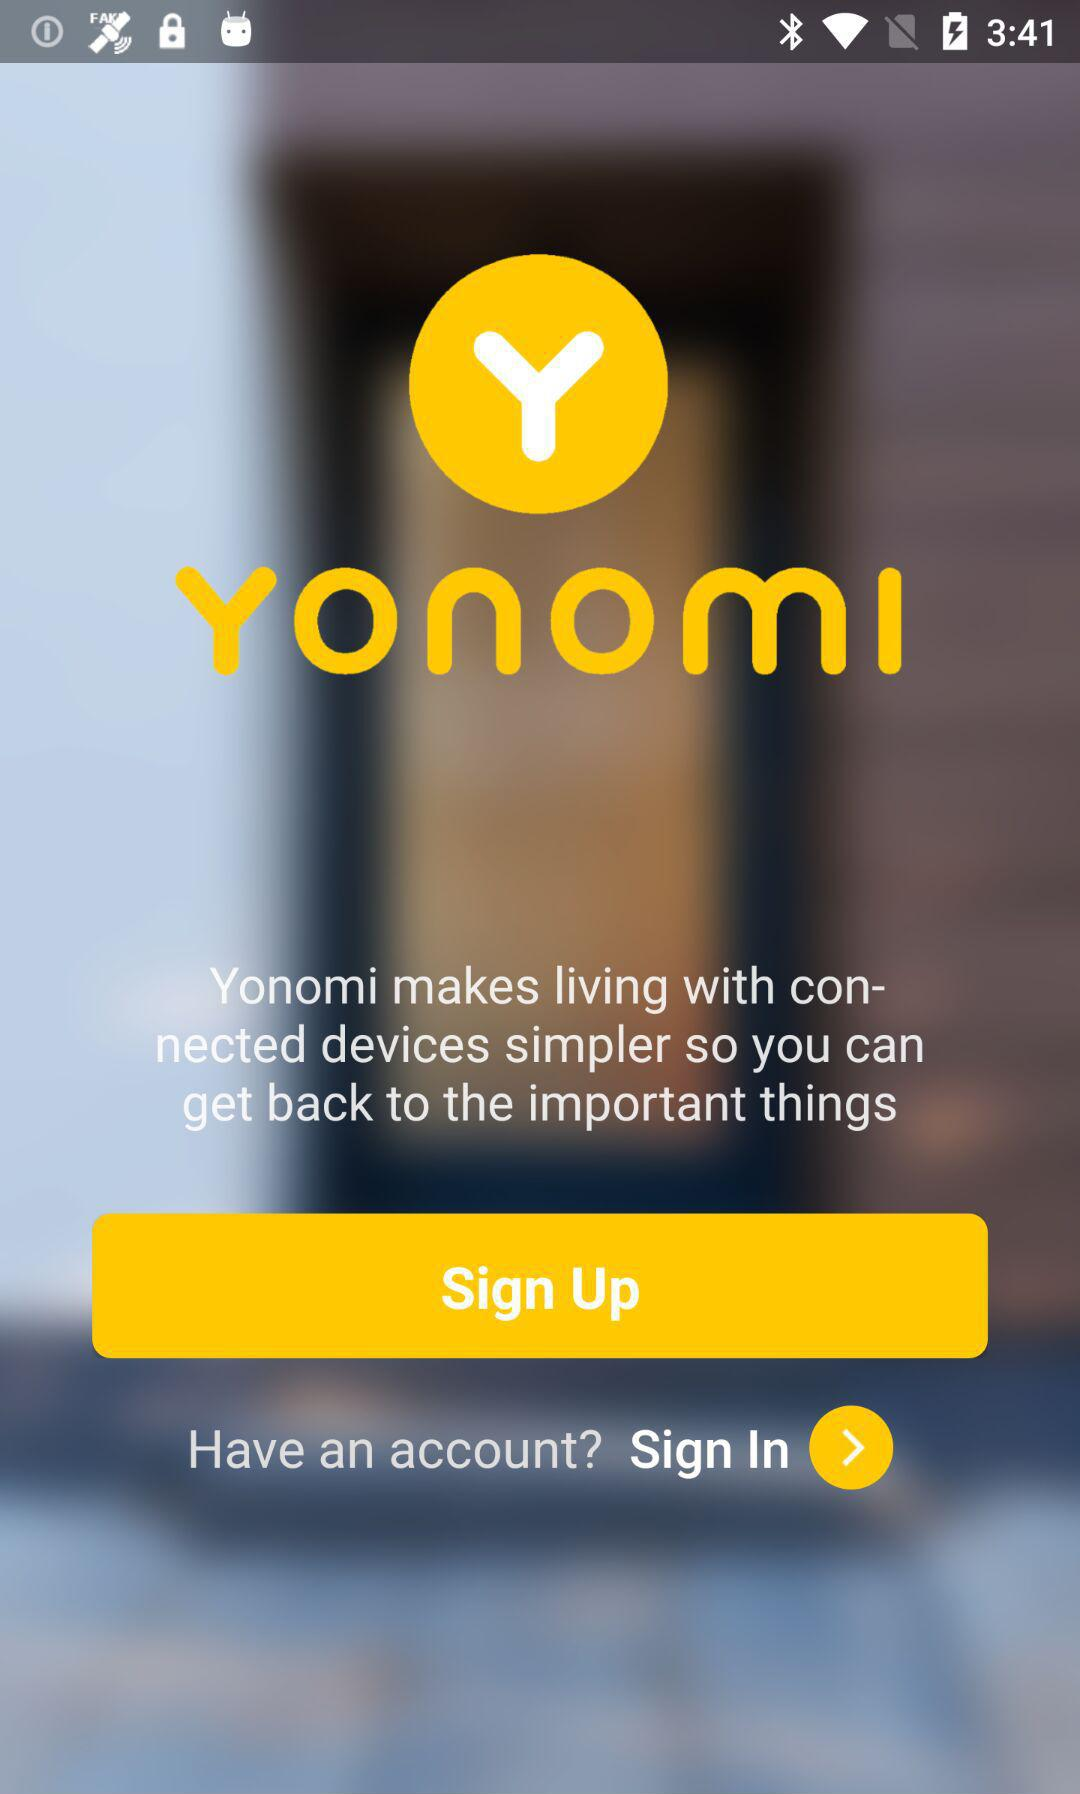BackgroundImage: (1, 64, 1080, 1794)
Icon: (808, 1404, 894, 1492)
Image: (176, 565, 902, 677), (409, 255, 669, 516)
Text: (158, 965, 924, 1133), (190, 1429, 789, 1480)
TextButton: (92, 1214, 989, 1360)
UpperTaskBar: (1, 1, 1080, 64)
